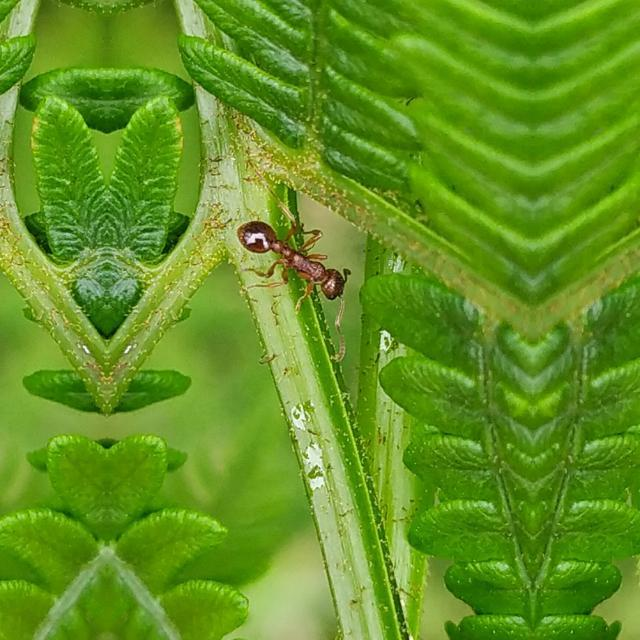Myrmica: (226, 194, 364, 338)
